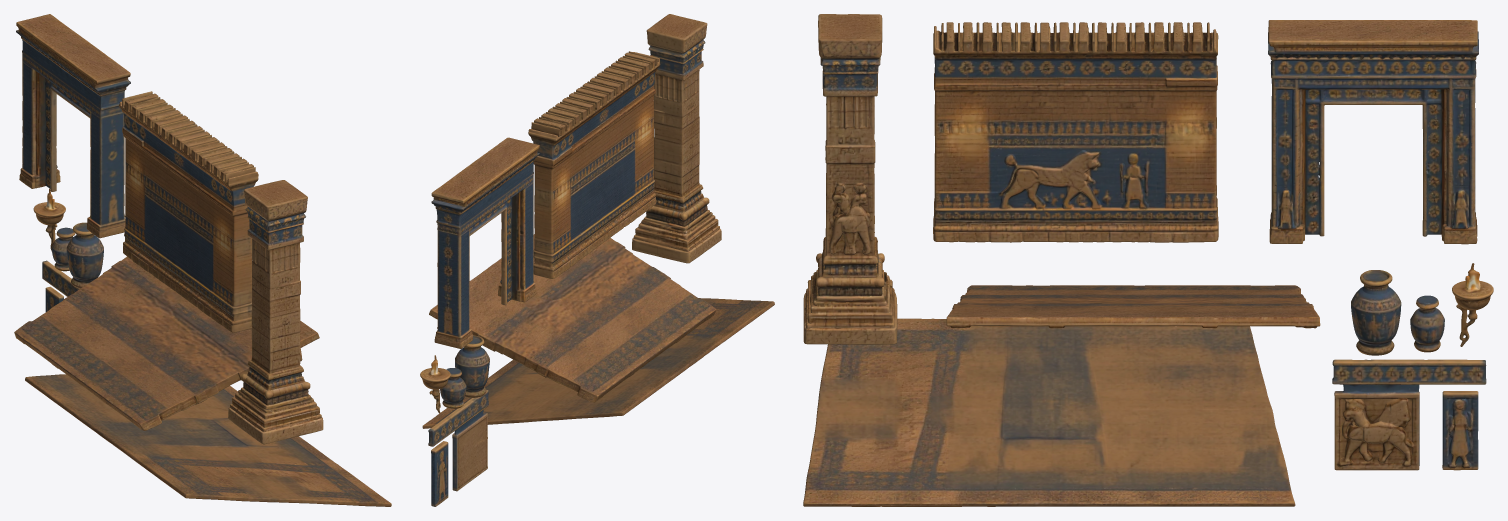
The model's file is الاستقبال.glb.
3 views of the same model, side by side, from view 1: azimuth 30°, elevation 25°; view 2: azimuth 150°, elevation 25°; view 3: azimuth 270°, elevation 25° (orthographic). The views are drawn at different scales.
Parts seen in each view (by area): view 1: world; view 2: world; view 3: world.
Boxes of the visible parts, <box> form: world: <box>14,14,391,506</box>; world: <box>420,14,774,506</box>; world: <box>803,14,1493,506</box>.
Bounding box in the file's own units: 0.422 × 0.692 × 1.
1 material, 1 textured.
